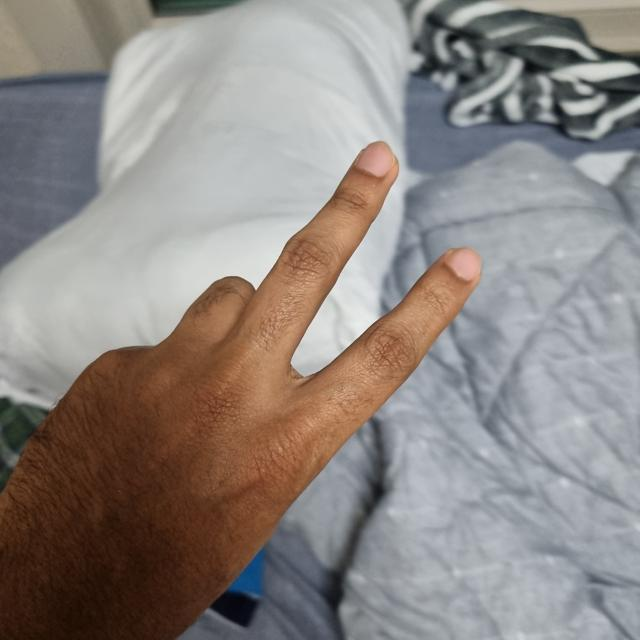Scissors: (0, 138, 481, 638)
